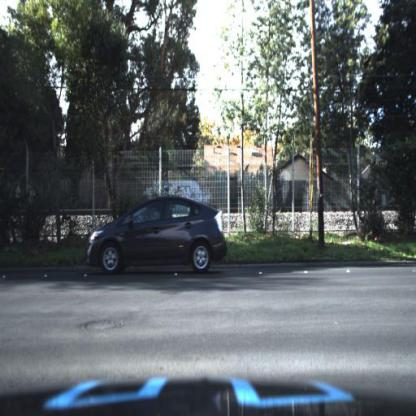car: (88, 196, 228, 280)
